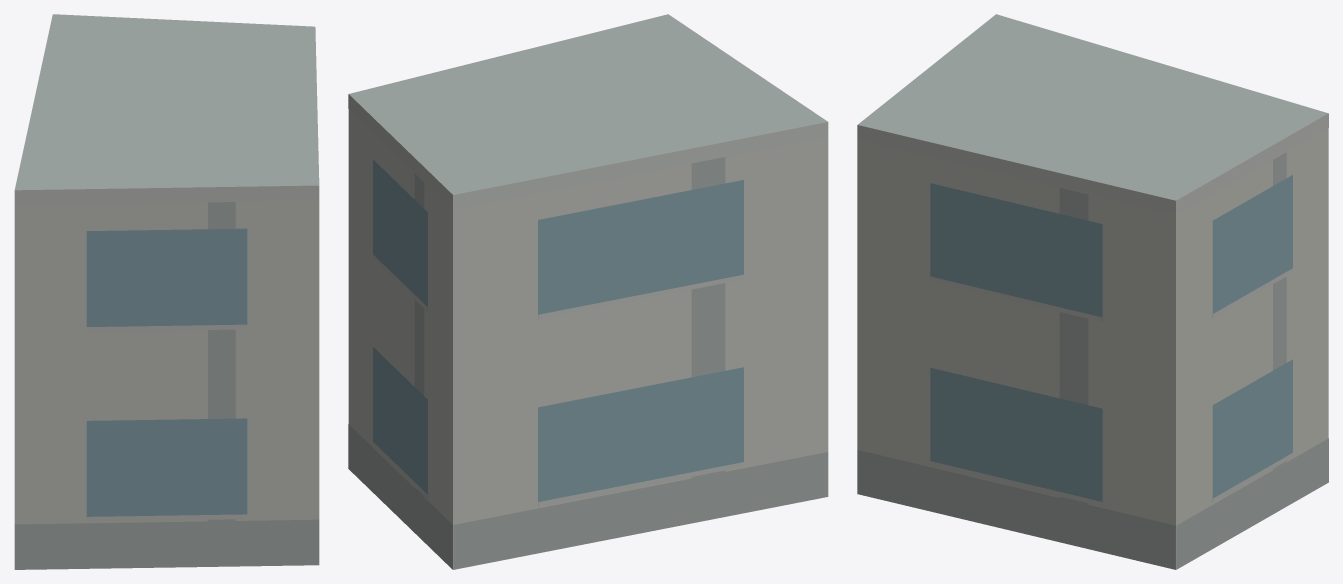
File: survey-upis-32509842.glb
The picture shows the model from 3 angles, left to right: view 1: azimuth 30°, elevation 25°; view 2: azimuth 150°, elevation 25°; view 3: azimuth 270°, elevation 25°; orthographic projection. The views are drawn at different scales.
Visible parts, largest first — view 1: survey-upis-32509842.tmp; view 2: survey-upis-32509842.tmp; view 3: survey-upis-32509842.tmp.
Part boxes in pixels (x1,y1,x2,y2): survey-upis-32509842.tmp: [14, 14, 319, 569]; survey-upis-32509842.tmp: [348, 14, 828, 569]; survey-upis-32509842.tmp: [857, 14, 1328, 569].
Bounding box in the file's own units: 6.62 × 6.1 × 7.07.
